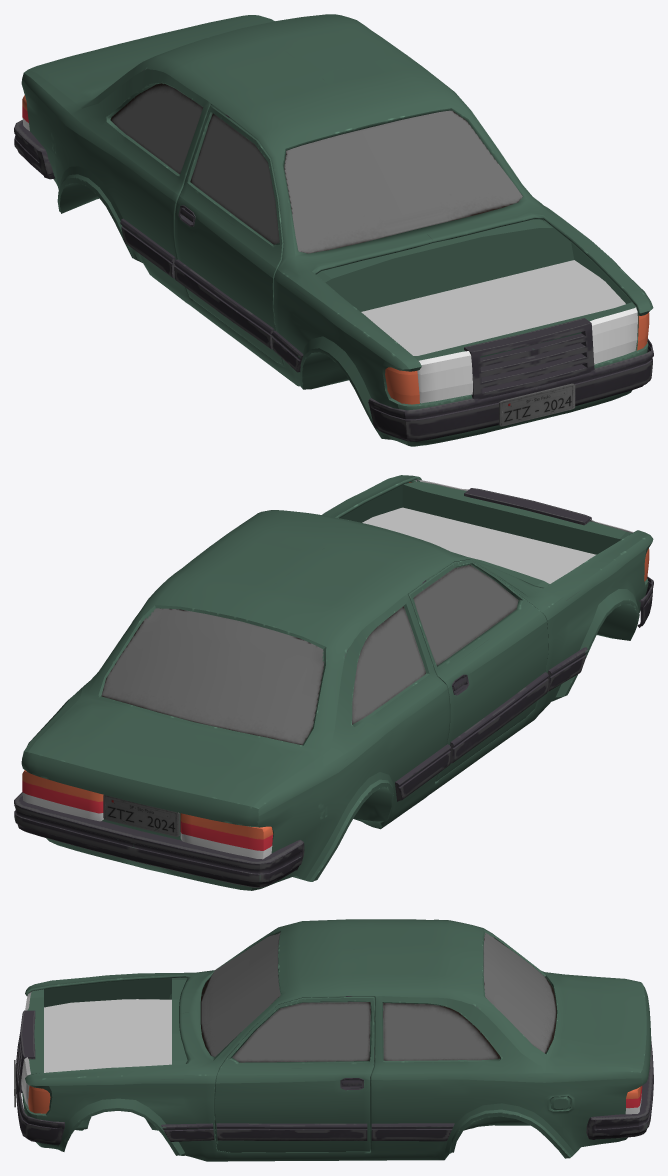
Rendered from Carro_Final.fbx.
3 renders of one model, top to bottom at view 1: azimuth 30°, elevation 25°; view 2: azimuth 150°, elevation 25°; view 3: azimuth 270°, elevation 25°, orthographic. The views are drawn at different scales.
Visible parts, largest first — view 1: Car, Glass, Motor P, Parachoque, Luz2, Placa; view 2: Car, Glass, Parachoque, Motor P, Luz2, Placa; view 3: Car, Glass, Motor P, Parachoque, Luz2.
Boxes of the visible parts, x1,y1,x2,y2 form: Car: (21,14,653,446); Glass: (110,83,522,253); Motor P: (316,219,635,360); Parachoque: (14,120,653,441); Luz2: (22,95,649,404); Placa: (498,383,575,426); Car: (21,475,653,890); Glass: (101,564,518,744); Parachoque: (14,488,653,887); Motor P: (340,481,631,587); Luz2: (22,479,649,859); Placa: (103,795,179,836); Car: (22,919,651,1161); Glass: (200,932,556,1062); Motor P: (27,977,187,1074); Parachoque: (15,1010,653,1145); Luz2: (21,991,642,1114).
Size of the model in its own units: 181 by 127 by 441.
